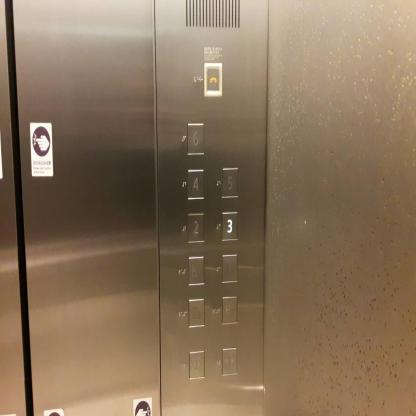2: (186, 211, 204, 244)
3: (221, 210, 238, 243)
4: (186, 168, 204, 201)
5: (221, 166, 239, 200)
6: (186, 121, 205, 157)
B: (187, 254, 205, 287)
B2: (221, 294, 238, 326)
B3: (188, 297, 204, 330)
call: (202, 61, 223, 98)
close: (221, 346, 238, 378)
empty: (220, 253, 238, 285)
open: (188, 349, 205, 380)
